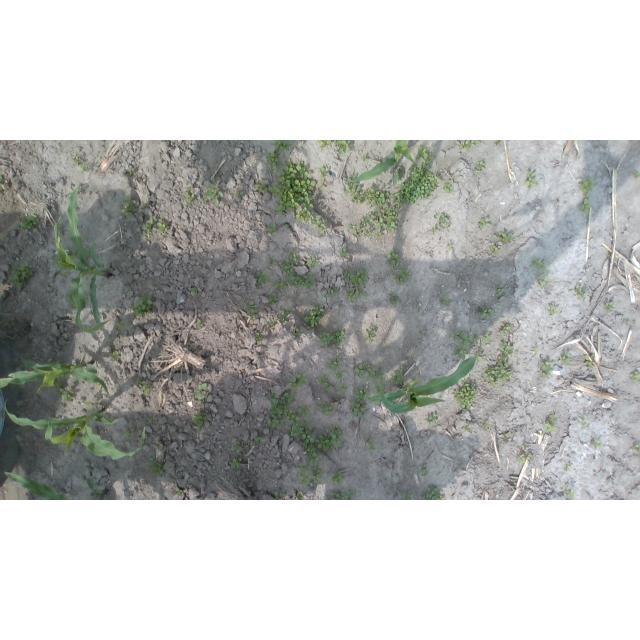Maize: (53, 185, 115, 335), (364, 336, 483, 414), (4, 398, 147, 462), (0, 357, 112, 398), (340, 140, 416, 186), (4, 470, 111, 500)
Weeds: (343, 161, 441, 239), (266, 371, 344, 453), (252, 155, 329, 235), (254, 247, 321, 292), (485, 340, 515, 388), (340, 269, 370, 303), (387, 250, 414, 286), (451, 377, 478, 411), (300, 453, 327, 486), (8, 263, 35, 290), (451, 332, 475, 359), (578, 177, 595, 215), (353, 363, 387, 381), (490, 231, 514, 254), (530, 259, 549, 287), (143, 219, 170, 237), (304, 305, 325, 328), (267, 309, 293, 327), (318, 140, 350, 154), (350, 388, 366, 416), (71, 153, 93, 173), (132, 297, 152, 319), (319, 328, 346, 344), (203, 183, 222, 205), (541, 412, 557, 435), (146, 456, 164, 476), (18, 215, 40, 231), (121, 196, 137, 217), (195, 383, 209, 406), (538, 361, 554, 380), (244, 300, 257, 322), (424, 488, 445, 501), (574, 284, 590, 301), (337, 487, 357, 500), (135, 377, 149, 395), (192, 414, 208, 429), (419, 146, 434, 161), (326, 356, 342, 370), (561, 484, 575, 500), (391, 371, 405, 386), (497, 324, 512, 337), (584, 354, 596, 370), (478, 308, 494, 320), (461, 141, 482, 150), (440, 214, 451, 231), (366, 438, 379, 452), (579, 415, 592, 429), (185, 187, 195, 204), (441, 294, 454, 307), (229, 456, 241, 468), (605, 300, 616, 313), (478, 218, 491, 229), (525, 175, 536, 188), (388, 292, 401, 303), (462, 423, 475, 434), (332, 471, 342, 485), (629, 369, 639, 383), (557, 353, 571, 363), (474, 161, 485, 173), (548, 305, 560, 316), (428, 414, 441, 424), (251, 432, 263, 442), (444, 181, 453, 194), (274, 492, 287, 501), (631, 443, 640, 456), (254, 331, 263, 343), (519, 454, 534, 461), (122, 430, 135, 438), (369, 329, 378, 340), (340, 249, 349, 260), (116, 322, 125, 333), (195, 318, 203, 330), (295, 328, 302, 341), (496, 287, 505, 297), (123, 170, 133, 179), (112, 351, 121, 361), (324, 292, 338, 298), (419, 466, 428, 475), (191, 286, 200, 295), (234, 444, 243, 453), (296, 492, 306, 500), (176, 489, 185, 497), (593, 442, 604, 448), (402, 496, 415, 501), (446, 243, 455, 250), (566, 464, 573, 473), (145, 416, 154, 423), (268, 296, 277, 303), (432, 227, 439, 234), (633, 172, 640, 179), (483, 422, 489, 428)
